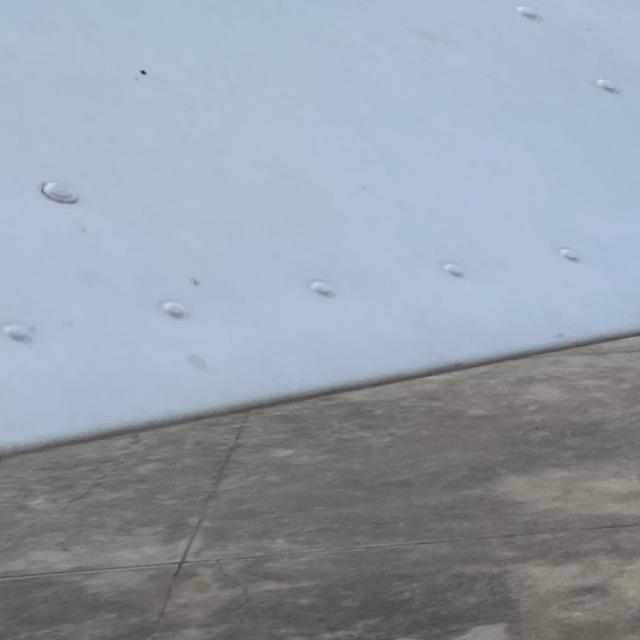Paint-off: (182, 354, 204, 370)
